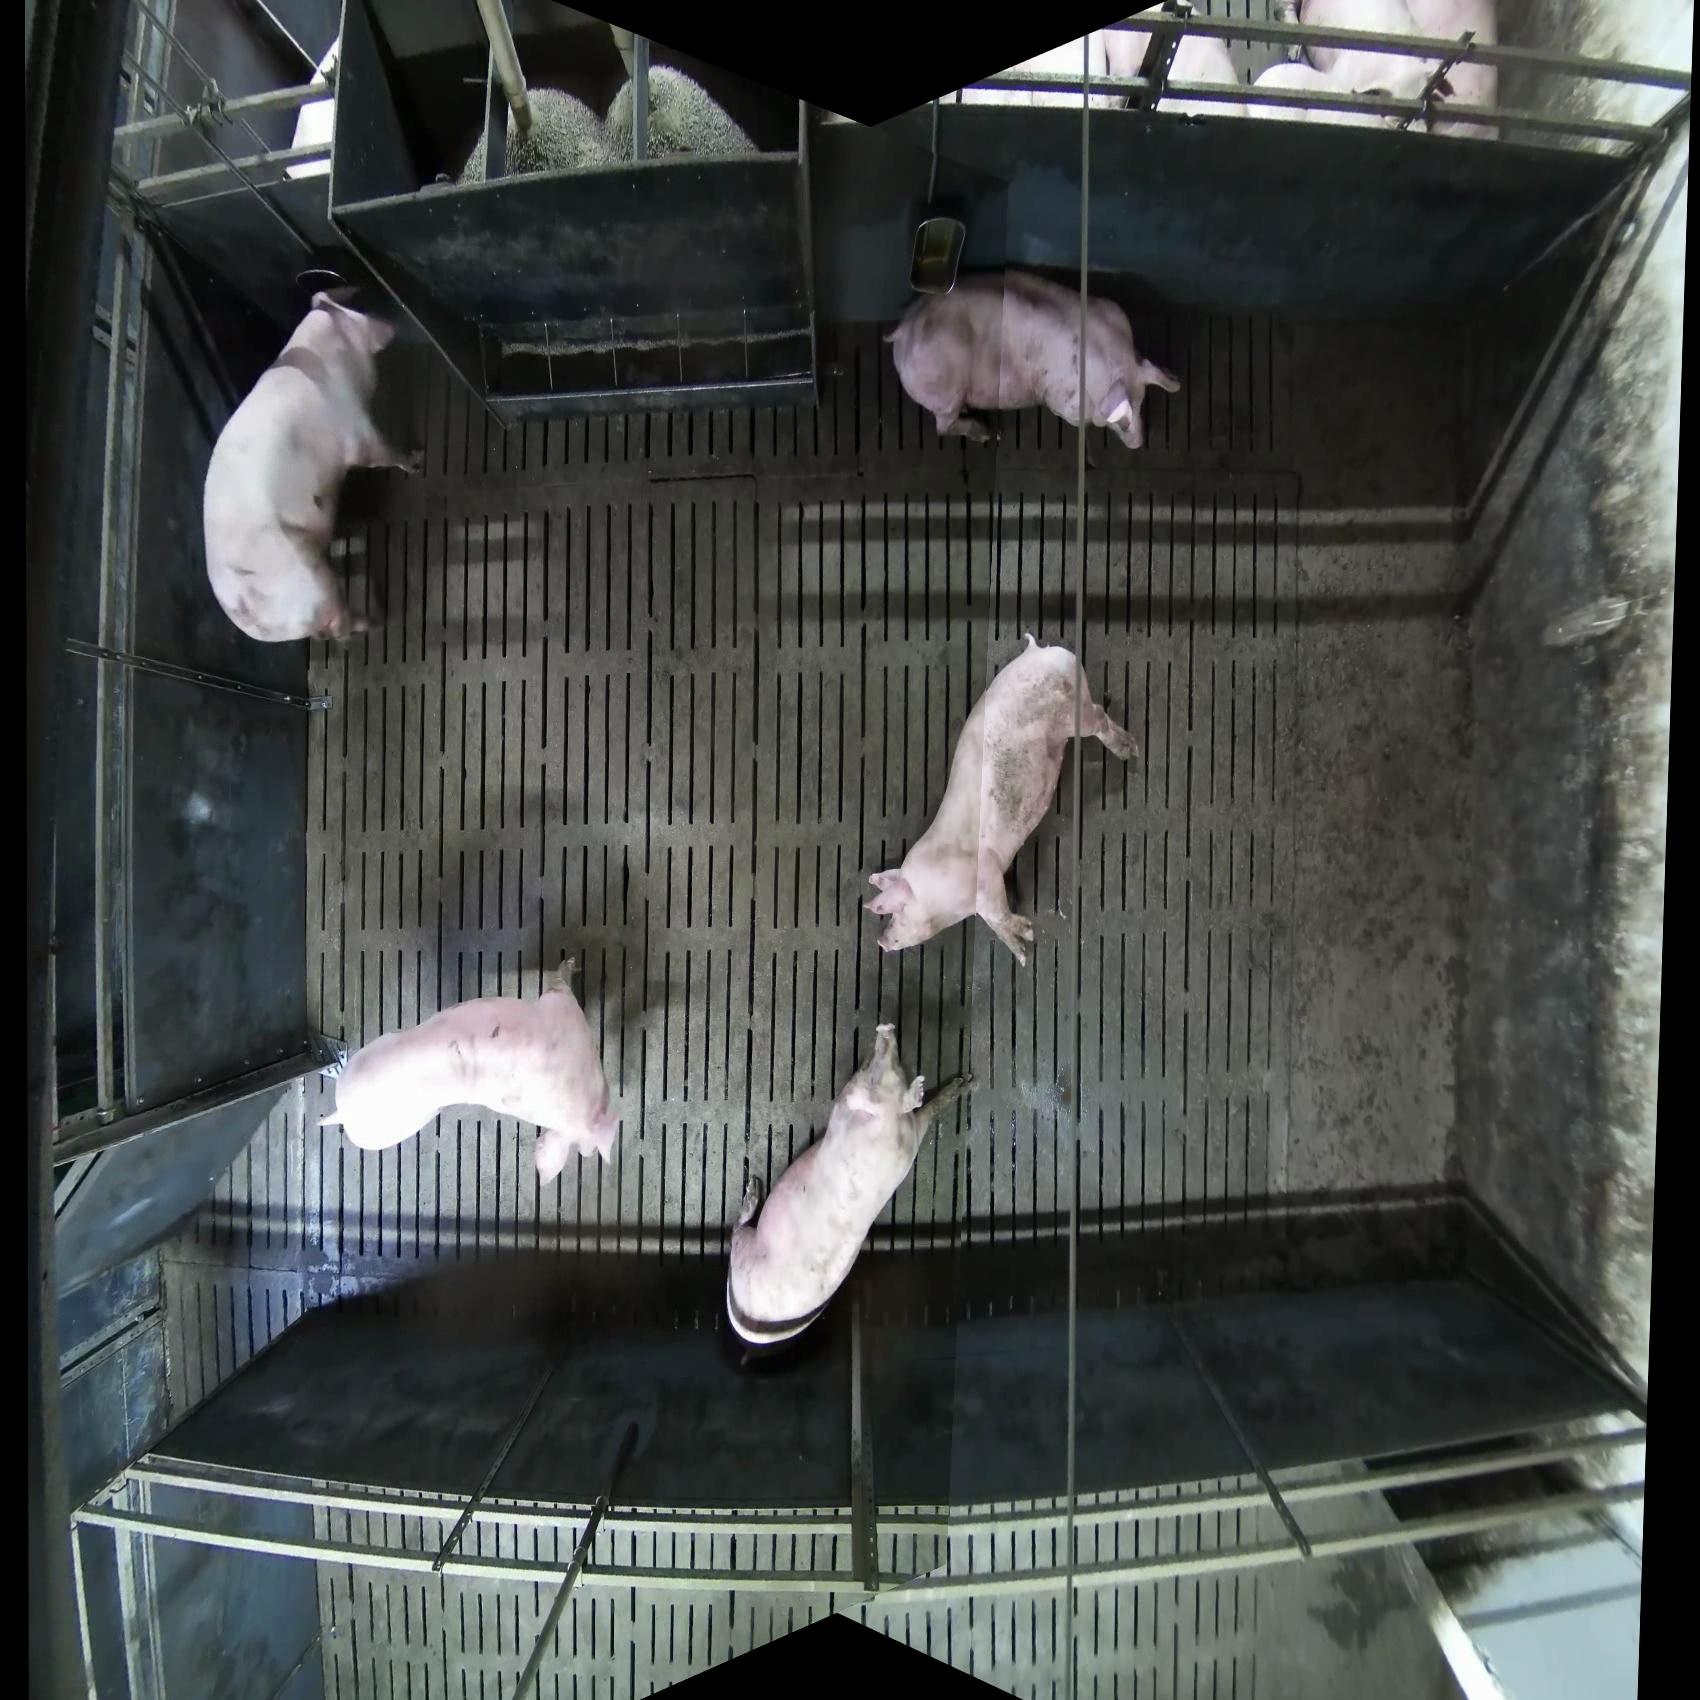pig: (864, 632, 1140, 971), (722, 1020, 978, 1350), (201, 286, 423, 646), (319, 953, 623, 1185), (886, 268, 1182, 451), (1249, 2, 1501, 139), (1094, 20, 1247, 120), (286, 33, 342, 184)
